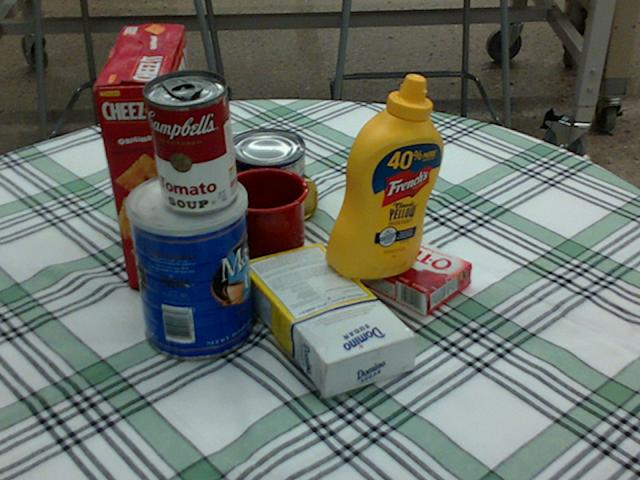cracker_box: (91, 27, 205, 286)
gelatin_box: (357, 233, 470, 317)
master_chef_can: (123, 170, 255, 361)
mug: (194, 167, 307, 274)
mustard_bottle: (326, 73, 442, 278)
potted_meat_can: (204, 146, 313, 230)
sugar_box: (239, 243, 419, 394)
tomato_soup_can: (142, 68, 236, 213)
tuna_fish_can: (226, 128, 304, 191)
